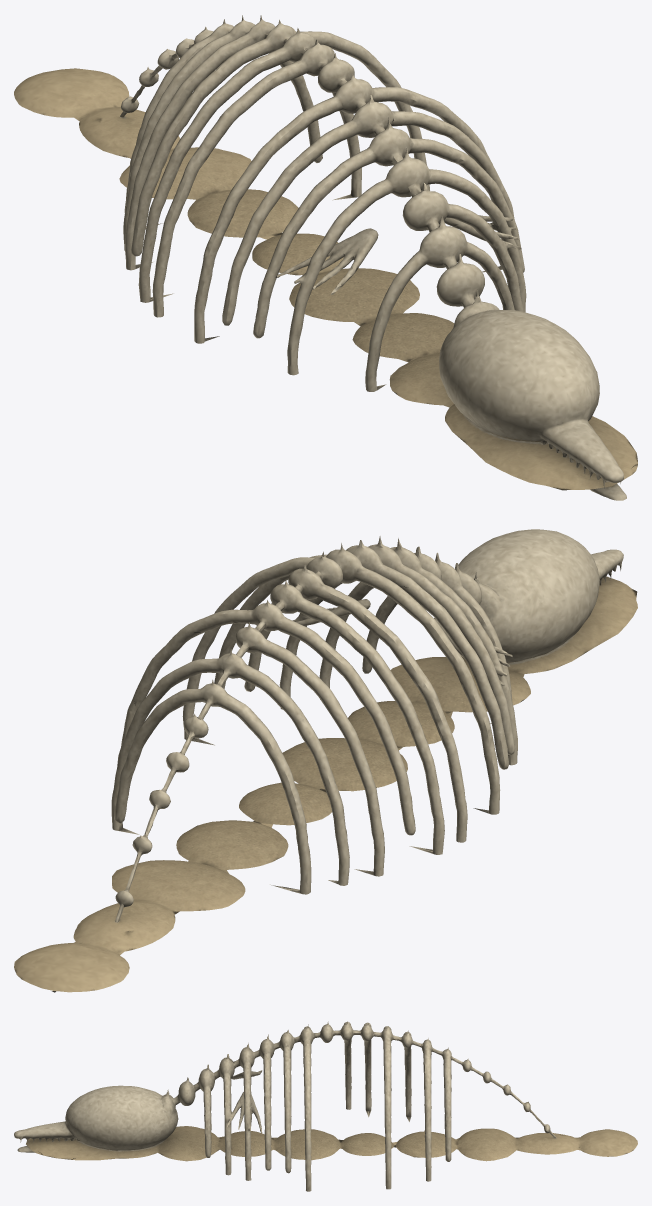
File: marco_ossada_gigante.glb
The picture shows the model from 3 angles, top to bottom: view 1: azimuth 30°, elevation 25°; view 2: azimuth 150°, elevation 25°; view 3: azimuth 270°, elevation 25°; orthographic projection. The views are drawn at different scales.
Parts seen in each view (by area): view 1: marco_ossada_gigante; view 2: marco_ossada_gigante; view 3: marco_ossada_gigante.
Part boxes in pixels (x1,y1,x2,y2): marco_ossada_gigante: (14, 15, 637, 500); marco_ossada_gigante: (14, 529, 637, 992); marco_ossada_gigante: (14, 1021, 637, 1191).
Size of the model in its own units: 12.02 by 8.54 by 37.4.
Materials: 1 (1 with a texture image).
